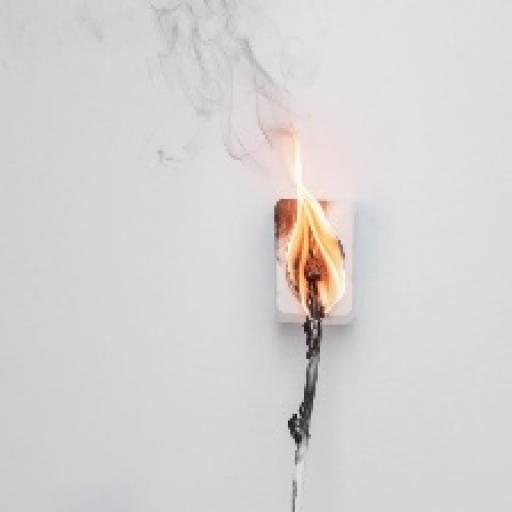fire and smoke: (290, 139, 343, 311)
